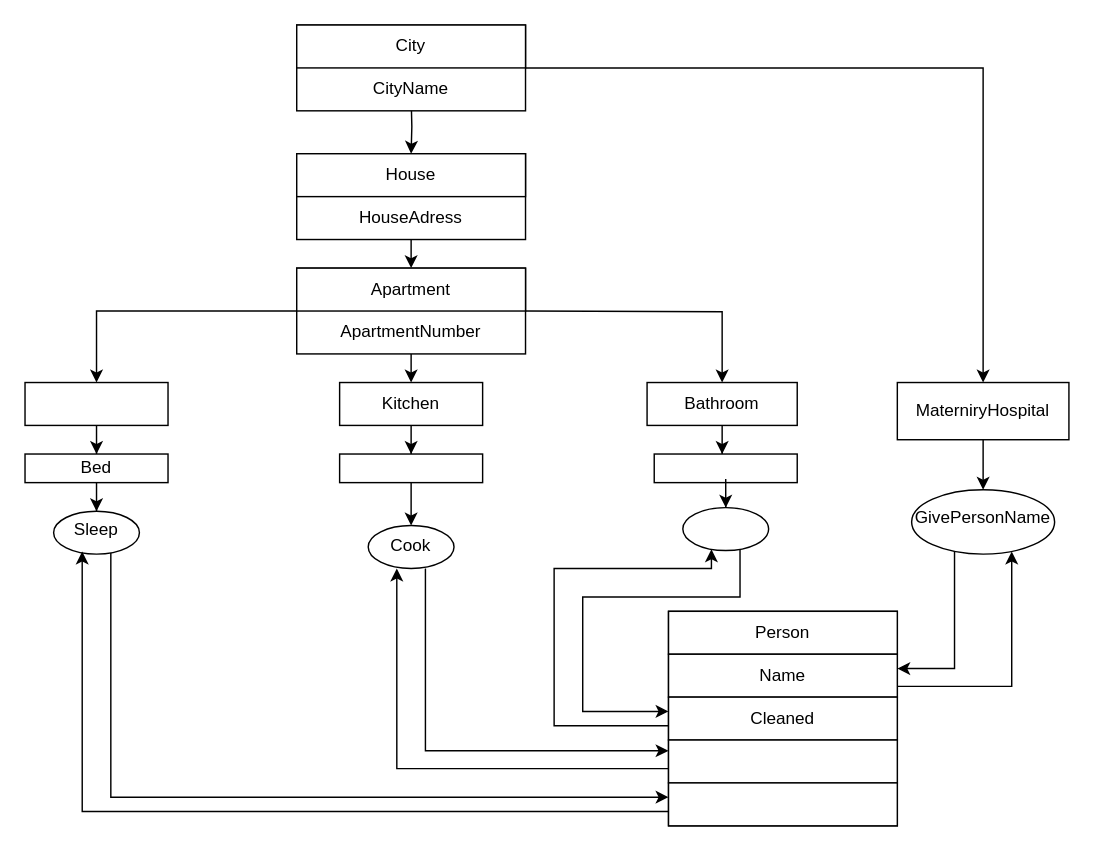
The diagram is 1094 pixels wide and 851 high, and some of its shapes have lost their labels. Each missing label, with the centre of its shape:
"Bath" belongs at [725,468].
"Bedroom" belongs at [96,403].
"Fed" belongs at [782,761].
"Slept" belongs at [782,803].
"Stove" belongs at [410,468].
"Wash" belongs at [725,528].
